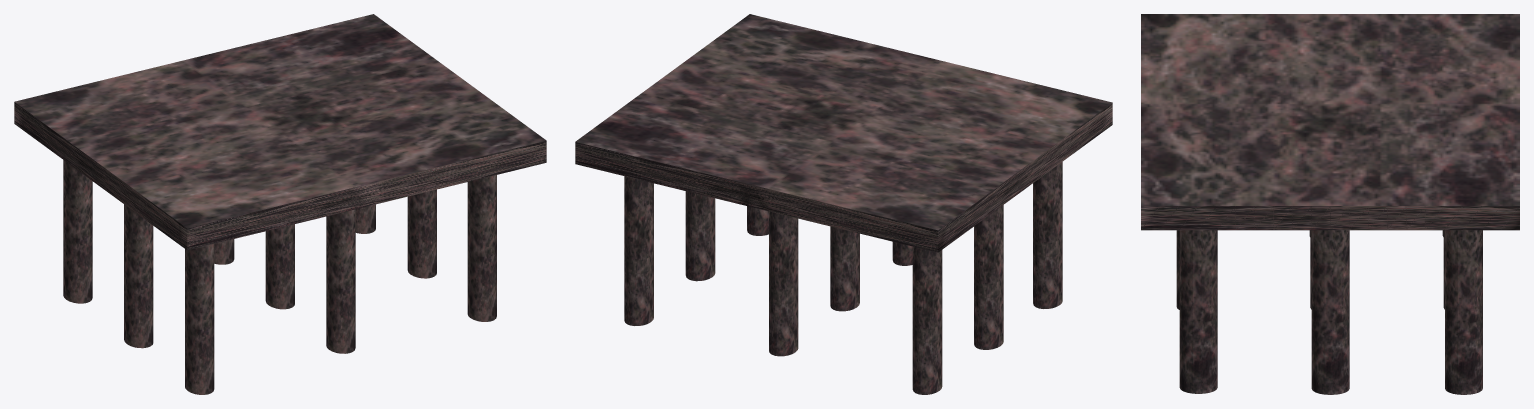
File: templeV3.fbx
3 views of the same model, side by side, from view 1: azimuth 30°, elevation 25°; view 2: azimuth 150°, elevation 25°; view 3: azimuth 270°, elevation 25° (orthographic). The views are drawn at different scales.
Parts seen in each view (by area): view 1: cylinder; view 2: cylinder; view 3: cylinder.
Boxes of the visible parts, x1=… form: cylinder: x1=14, y1=14, x2=546, y2=394; cylinder: x1=575, y1=14, x2=1112, y2=394; cylinder: x1=1141, y1=14, x2=1519, y2=394.
Size of the model in its own units: 2400 by 1200 by 2000.
Materials: 1 (1 with a texture image).
